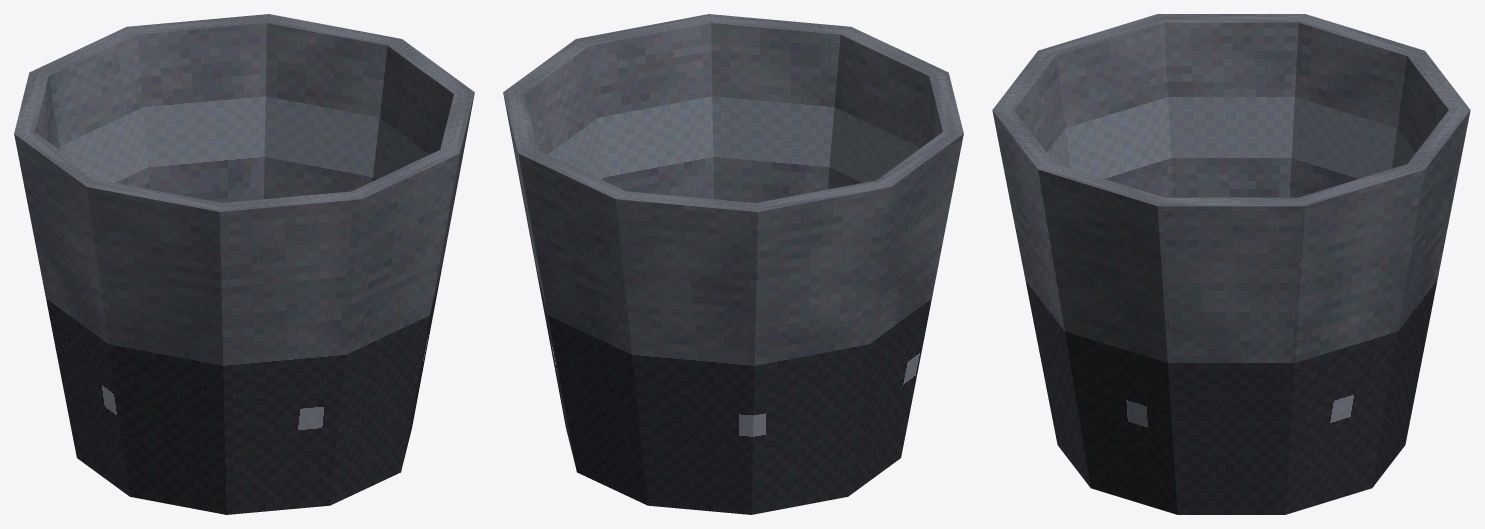
Rendered from prisao_balde.glb.
The picture shows the model from 3 angles, left to right: view 1: azimuth 30°, elevation 25°; view 2: azimuth 150°, elevation 25°; view 3: azimuth 270°, elevation 25°; orthographic projection.
Parts seen in each view (by area): view 1: prisao_balde; view 2: prisao_balde; view 3: prisao_balde.
Part boxes in pixels (<box>): prisao_balde: <box>14,14,474,514</box>; prisao_balde: <box>503,14,963,514</box>; prisao_balde: <box>992,14,1470,514</box>.
Bounding box in the file's own units: 0.4185 × 0.34 × 0.44.
1 material, 1 textured.
